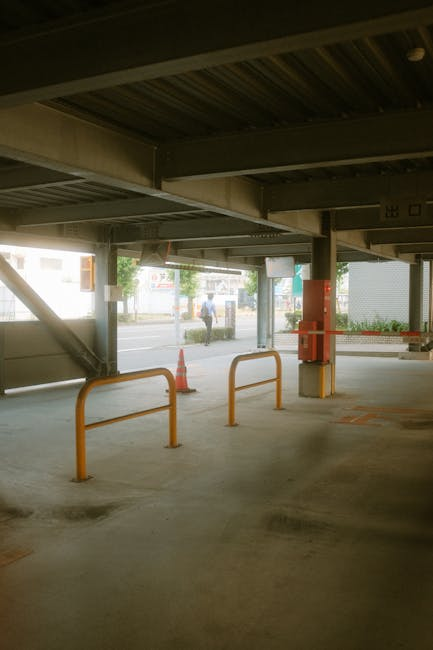traffic_cone: (165, 348, 197, 394)
